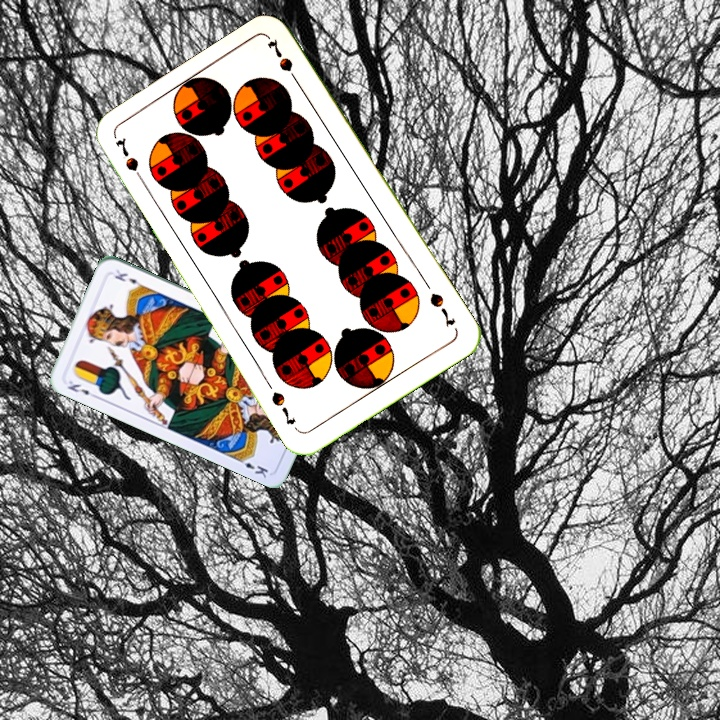EK: (63, 377, 99, 400)
S7: (111, 133, 148, 188), (425, 289, 458, 330)
